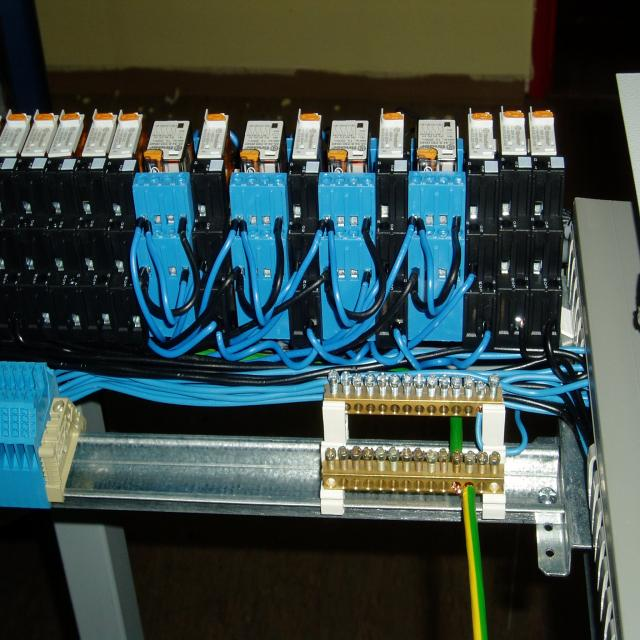Relais: (143, 120, 188, 159), (19, 114, 60, 156), (241, 119, 283, 160), (328, 119, 367, 160), (0, 115, 31, 163), (83, 111, 116, 156), (108, 113, 142, 156), (291, 112, 320, 158), (197, 114, 228, 156), (46, 119, 83, 154), (529, 110, 556, 154), (499, 112, 527, 154), (378, 112, 404, 156), (467, 114, 493, 156)
